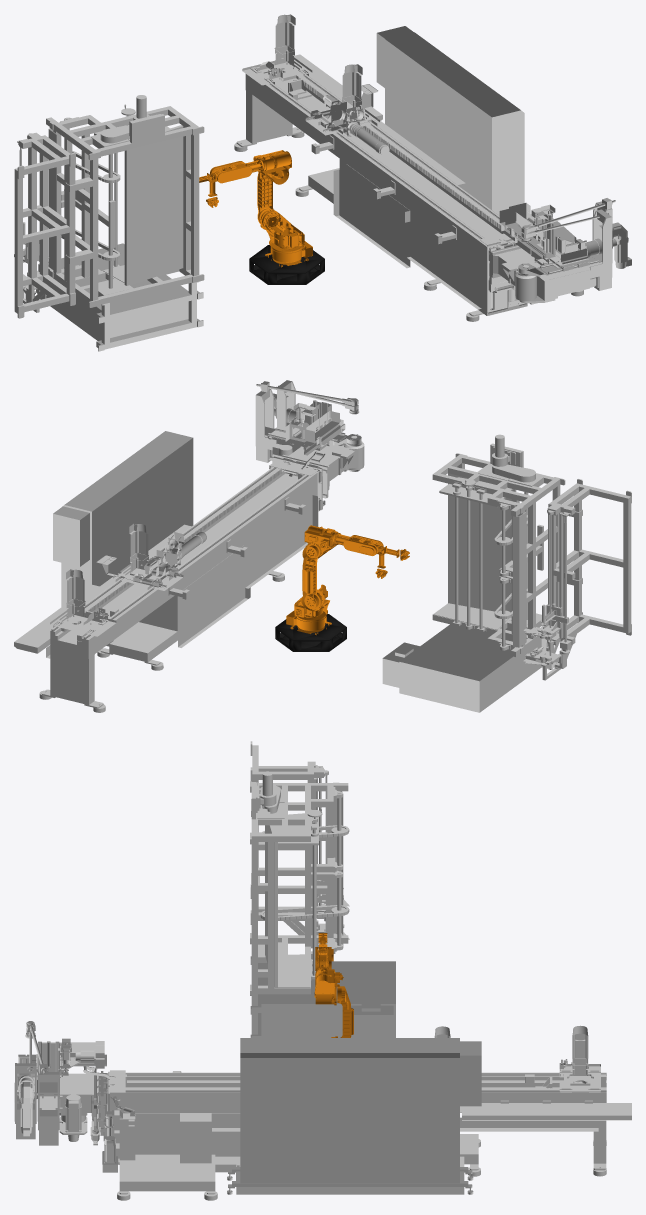
3 views of the same model, one above another, from view 1: azimuth 30°, elevation 25°; view 2: azimuth 150°, elevation 25°; view 3: azimuth 270°, elevation 25° (orthographic). The views are drawn at different scales.
Visible parts, largest first — view 1: ??1 (×18), Object001; view 2: ??1 (×13), Object001; view 3: ??1 (×14).
Part boxes in pixels (x1,y1,x2,y2): ??1 (×18): (14, 14, 631, 351); Object001: (249, 245, 324, 284); ??1 (×13): (14, 380, 631, 712); Object001: (275, 614, 346, 651); ??1 (×14): (15, 741, 631, 1200).
Size of the model in its own units: 0.7096 by 0.3183 by 0.7352.
